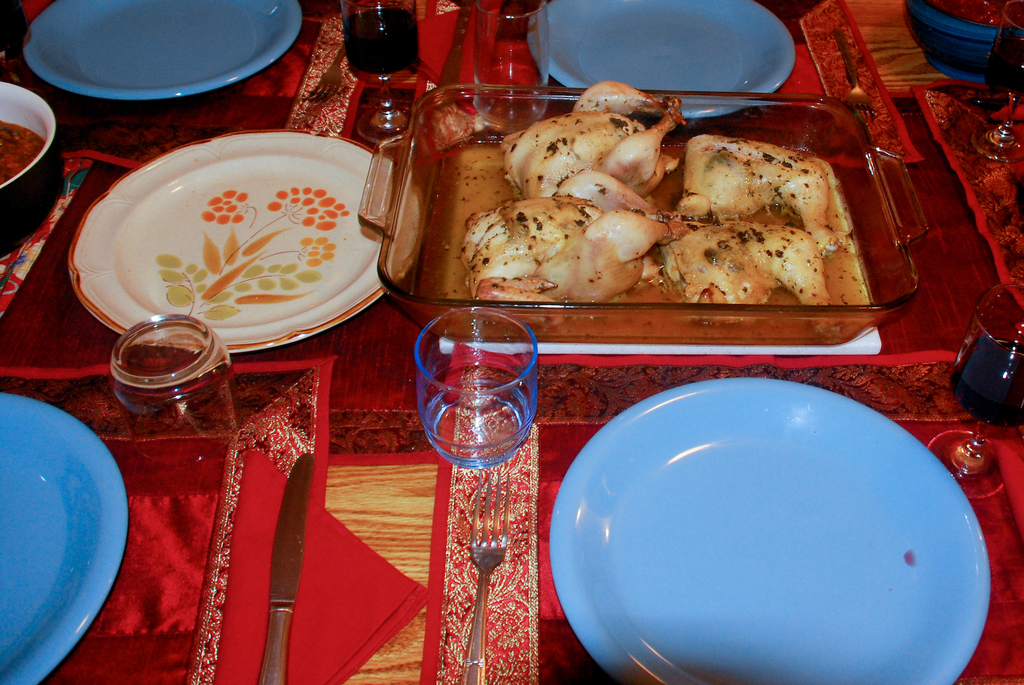plate: (63, 129, 433, 350), (0, 380, 126, 684), (14, 0, 304, 109)
